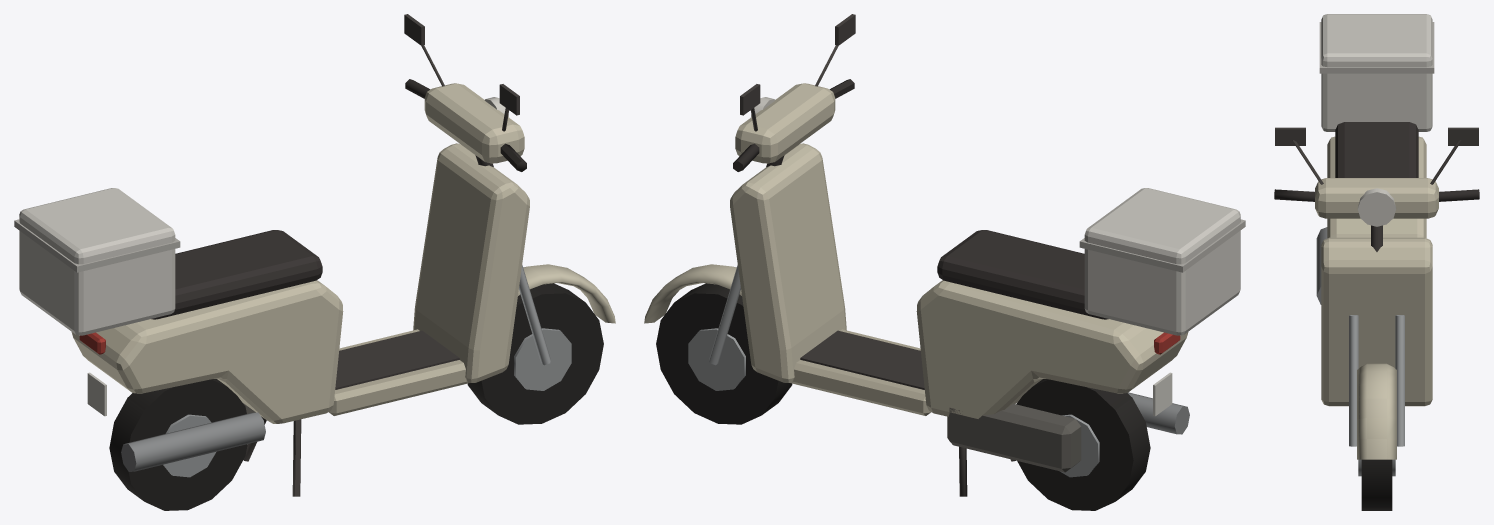
Rendered from vehicle_scooter_01.glb.
The picture shows the model from 3 angles, left to right: view 1: azimuth 30°, elevation 25°; view 2: azimuth 150°, elevation 25°; view 3: azimuth 270°, elevation 25°; orthographic projection. The views are drawn at different scales.
Parts seen in each view (by area): view 1: vehicle_scooter_01; view 2: vehicle_scooter_01; view 3: vehicle_scooter_01.
Boxes of the visible parts, x1=… form: vehicle_scooter_01: x1=14, y1=14, x2=615, y2=510; vehicle_scooter_01: x1=644, y1=14, x2=1245, y2=510; vehicle_scooter_01: x1=1274, y1=14, x2=1479, y2=510.
Bounding box in the file's own units: 1.91 × 1.23 × 0.6644.
